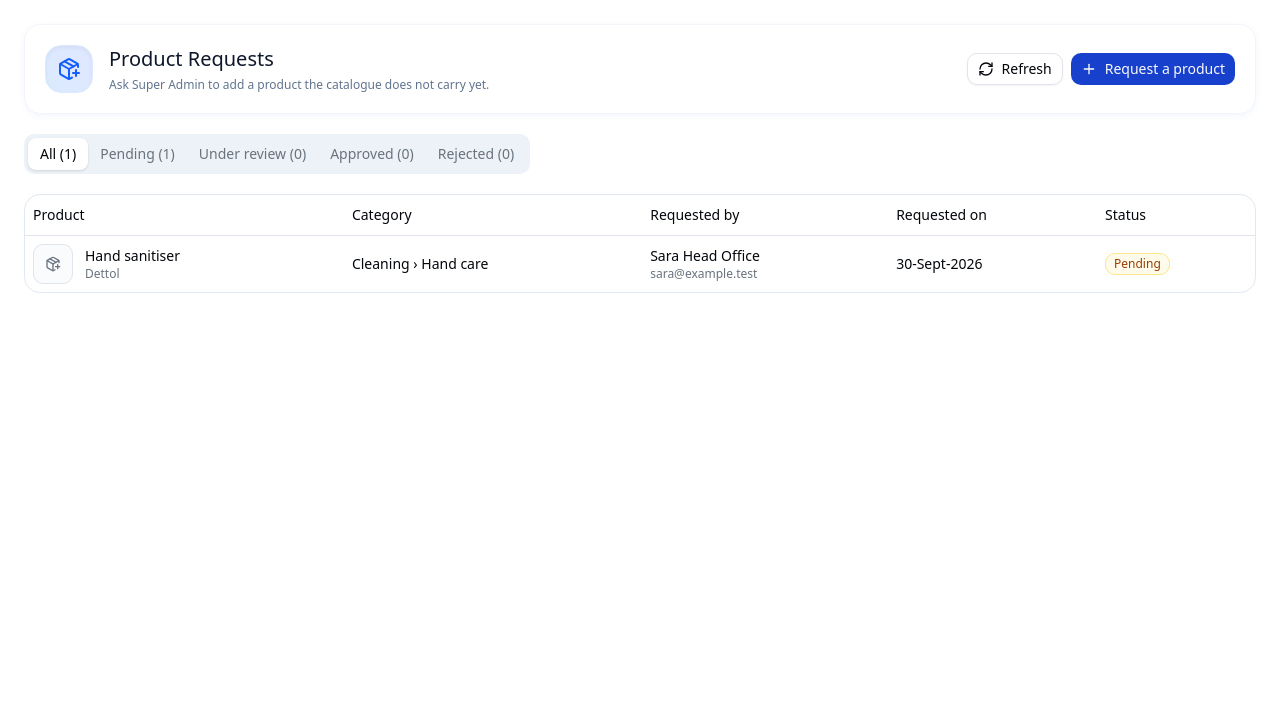
Scenario: ProductRequestsView for Head Office › opens a pending request read-only — no decision buttons
What coordinates should you click on to do the following:
click the row named "Open request for Hand sanitiser"
I would click on:
 (53, 264)
Its box is [25,235,1255,292].
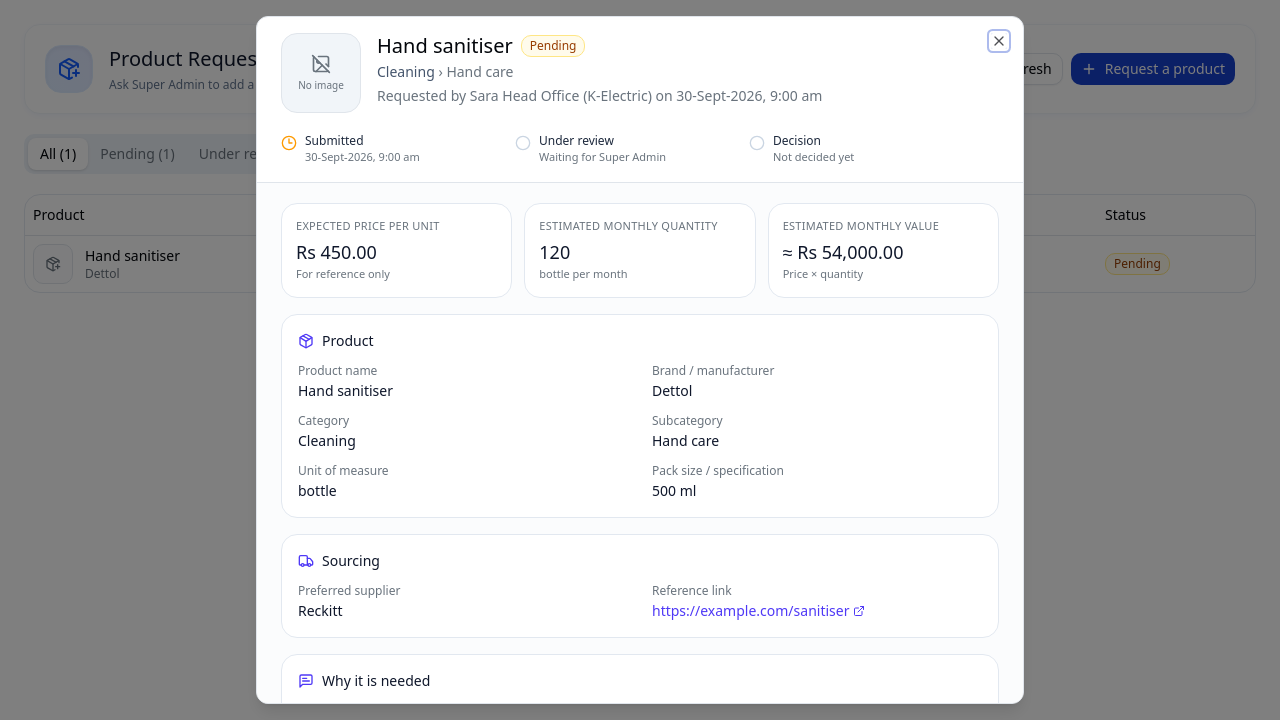
Now the text "Reckitt" is shown, box [298,600,342,620]
